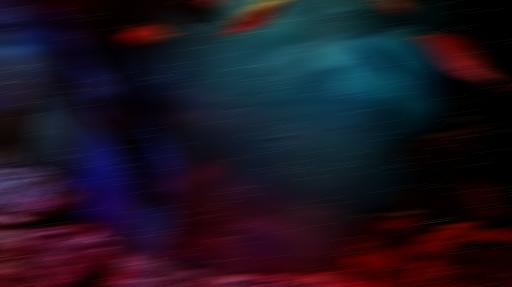Fish: (417, 25, 511, 90), (347, 40, 414, 84), (217, 0, 289, 37), (171, 0, 234, 25), (121, 21, 180, 45), (377, 0, 414, 16), (351, 254, 374, 277), (0, 23, 15, 49), (212, 0, 239, 13), (340, 277, 353, 286), (204, 274, 212, 286), (366, 279, 376, 286), (0, 6, 7, 8)
